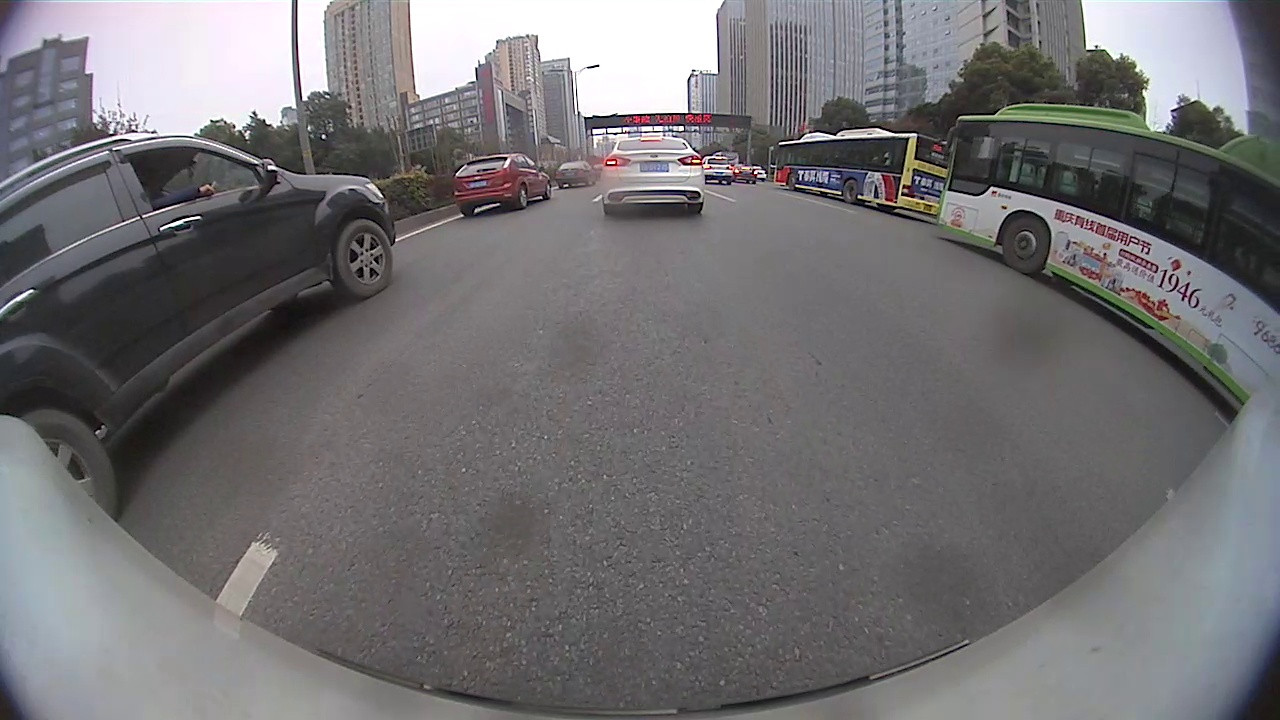bus: (935, 100, 1279, 414), (772, 127, 952, 218)
car: (1, 131, 397, 525), (599, 134, 705, 217), (453, 152, 554, 218)
front: (332, 216, 394, 296), (999, 212, 1049, 279), (787, 174, 800, 194), (545, 183, 555, 201)
rear: (15, 406, 133, 529), (841, 178, 861, 207), (517, 185, 531, 211)
